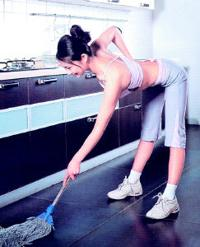person: (57, 24, 188, 221)
